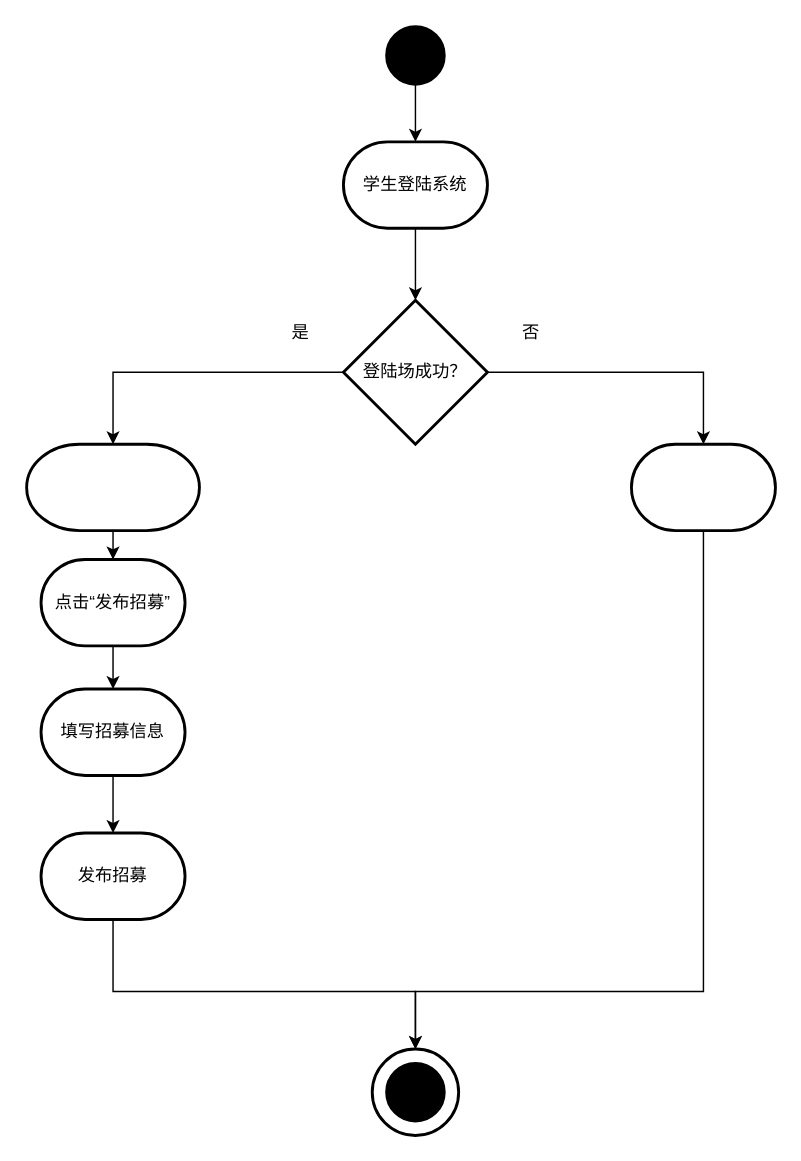
This 801x1161 diagram has some shape labels left out. Here are the shapes that lost their labels. From the top down, the centre of each, then its label:
[112,486]: 进入项目
[702,486]: 登陆失败提示
